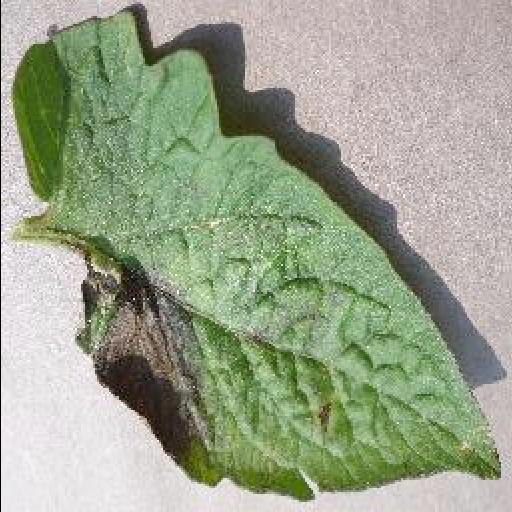disease_tomato: (11, 7, 505, 501)
